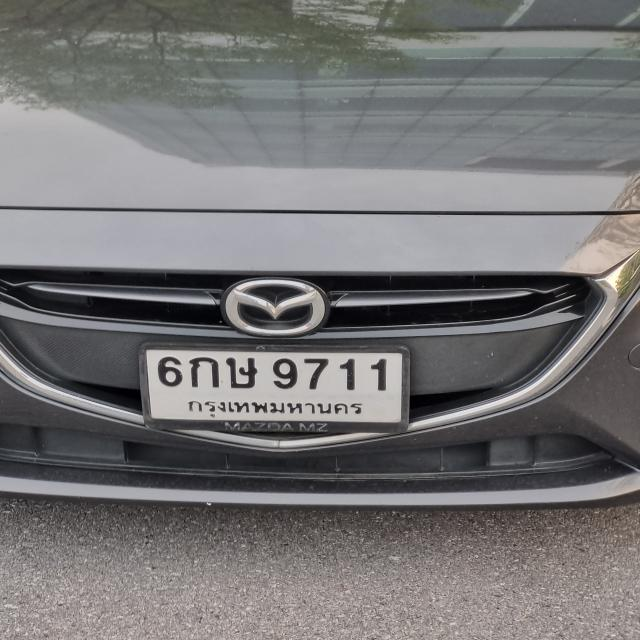license_plate: (136, 338, 412, 433)
